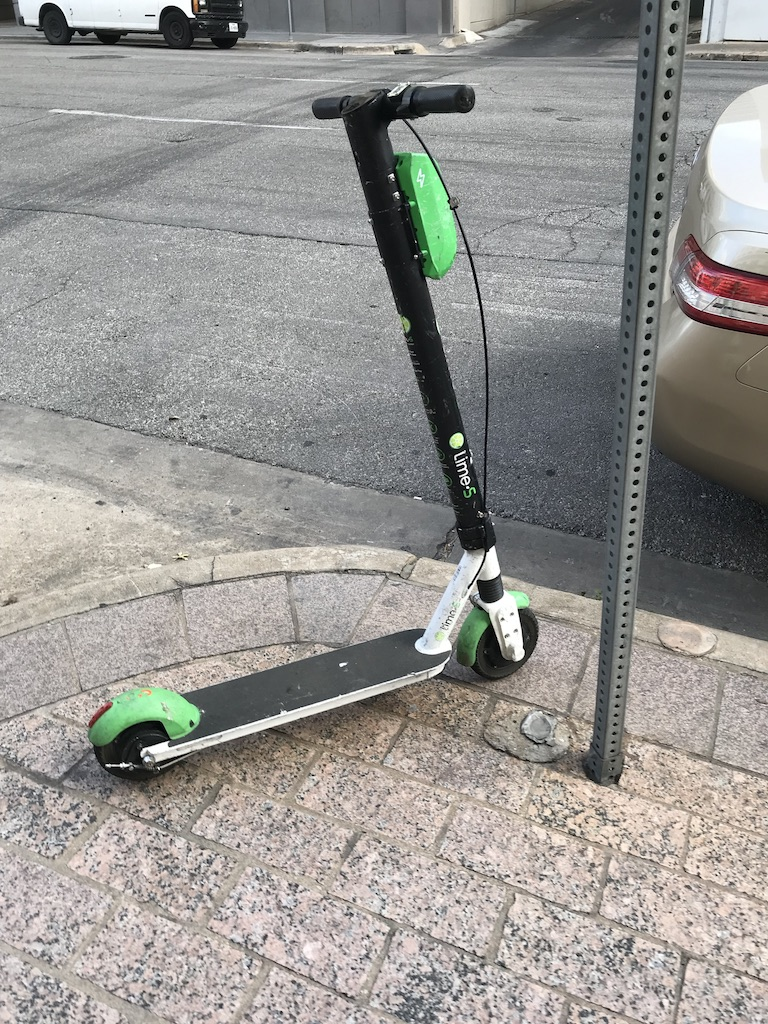scooter: (87, 81, 544, 782)
